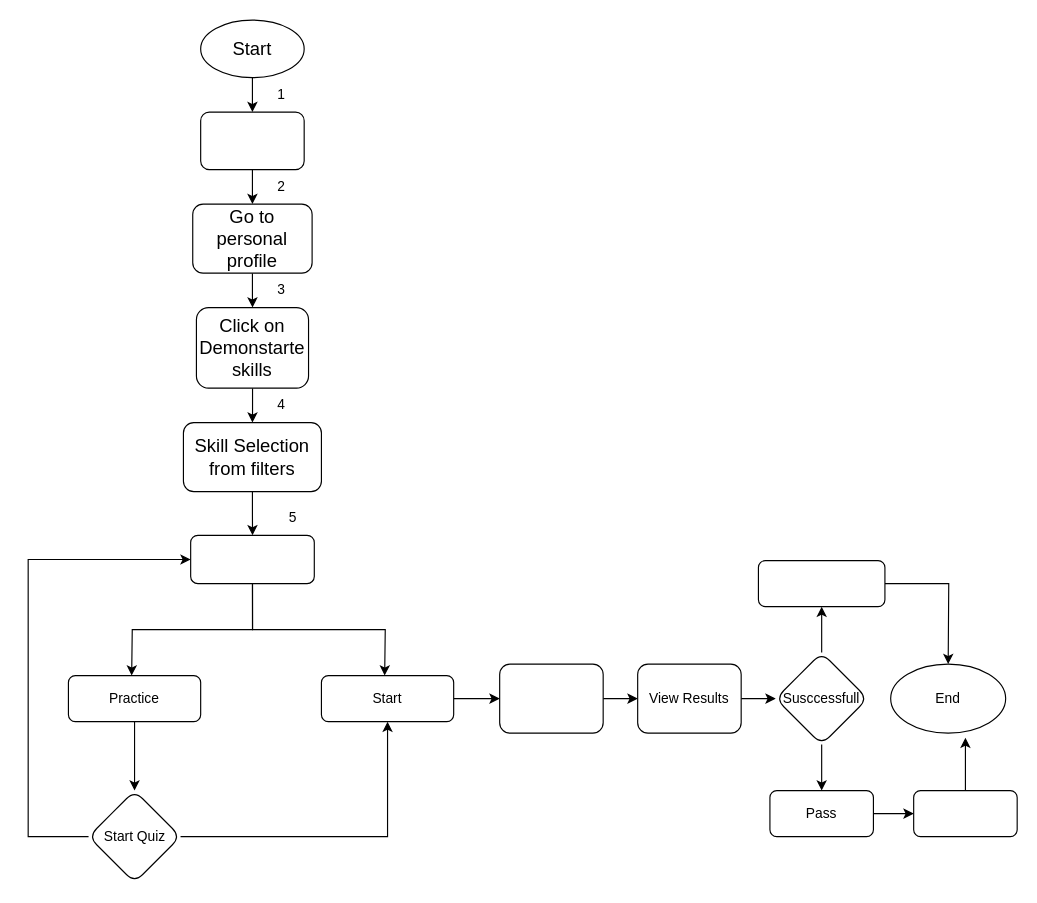
Image size: 1037x903. Some labels were removed from this diagram. Each missing label, with the box of its shape:
Fail: (757, 559, 885, 607)
Logged In: (200, 111, 304, 170)
Perform Test: (499, 663, 603, 733)
Skill Badge Earned: (913, 789, 1017, 837)
Skill Selected: (190, 534, 314, 584)
